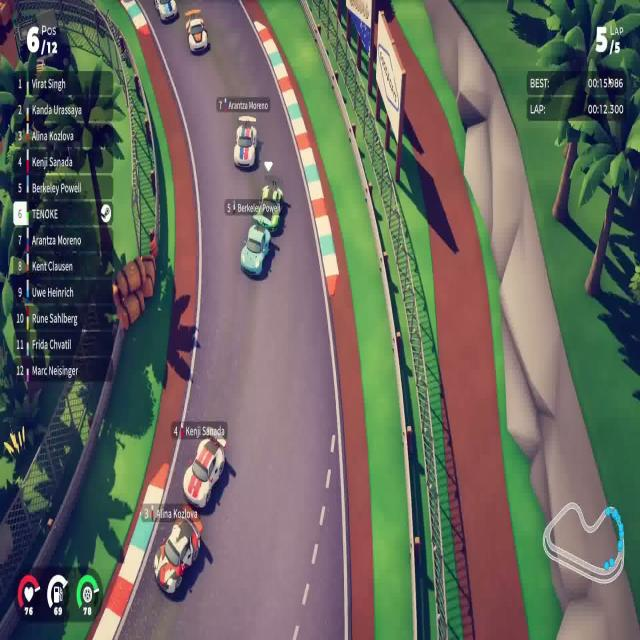car: (153, 512, 203, 596), (182, 434, 226, 508), (239, 223, 271, 277), (260, 173, 283, 233), (232, 117, 258, 170)
